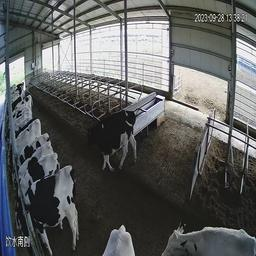cow: (13, 164, 83, 247), (137, 204, 245, 255), (75, 109, 135, 179), (6, 133, 60, 178), (99, 215, 135, 256), (7, 116, 41, 146), (1, 92, 31, 115)
